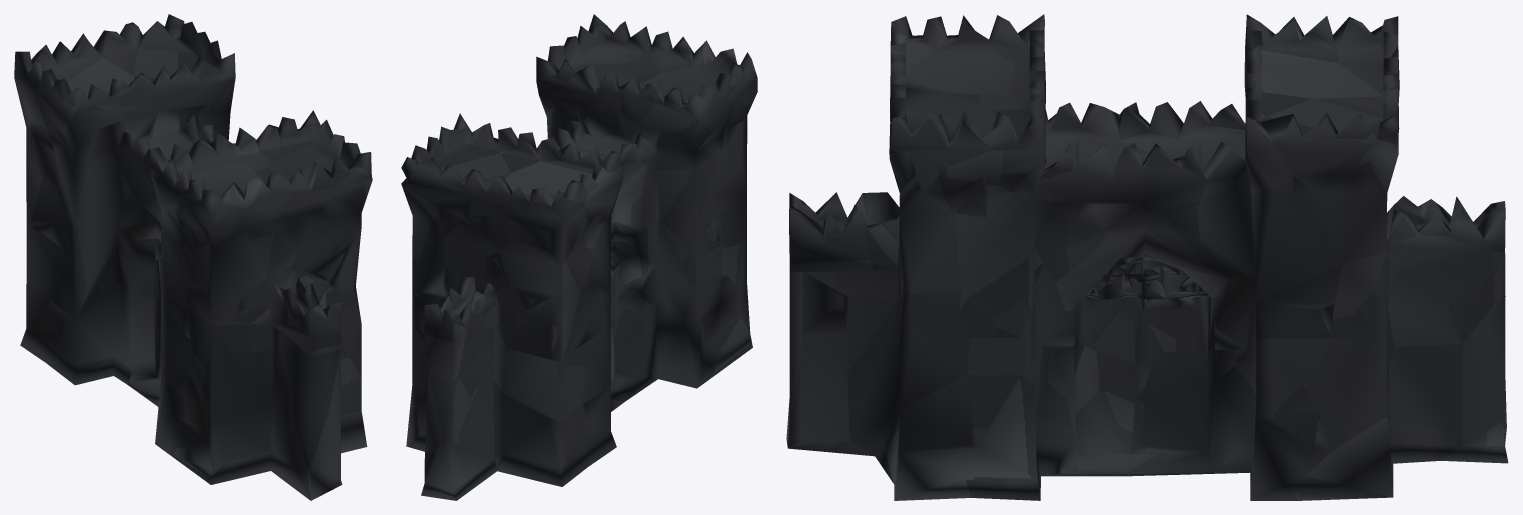
File: castle_gate_iron_lo.glb
The picture shows the model from 3 angles, left to right: view 1: azimuth 30°, elevation 25°; view 2: azimuth 150°, elevation 25°; view 3: azimuth 270°, elevation 25°; orthographic projection. The views are drawn at different scales.
Parts seen in each view (by area): view 1: tripo_node_b3218a17-f934-4566-9f43-ab2ecdddf4b3; view 2: tripo_node_b3218a17-f934-4566-9f43-ab2ecdddf4b3; view 3: tripo_node_b3218a17-f934-4566-9f43-ab2ecdddf4b3.
Part boxes in pixels (<box>): tripo_node_b3218a17-f934-4566-9f43-ab2ecdddf4b3: <box>14,14,372,500</box>; tripo_node_b3218a17-f934-4566-9f43-ab2ecdddf4b3: <box>401,14,757,500</box>; tripo_node_b3218a17-f934-4566-9f43-ab2ecdddf4b3: <box>786,14,1508,500</box>.
Size of the model in its own units: 0.3381 by 0.5777 by 0.9799.
1 material, 1 textured.
